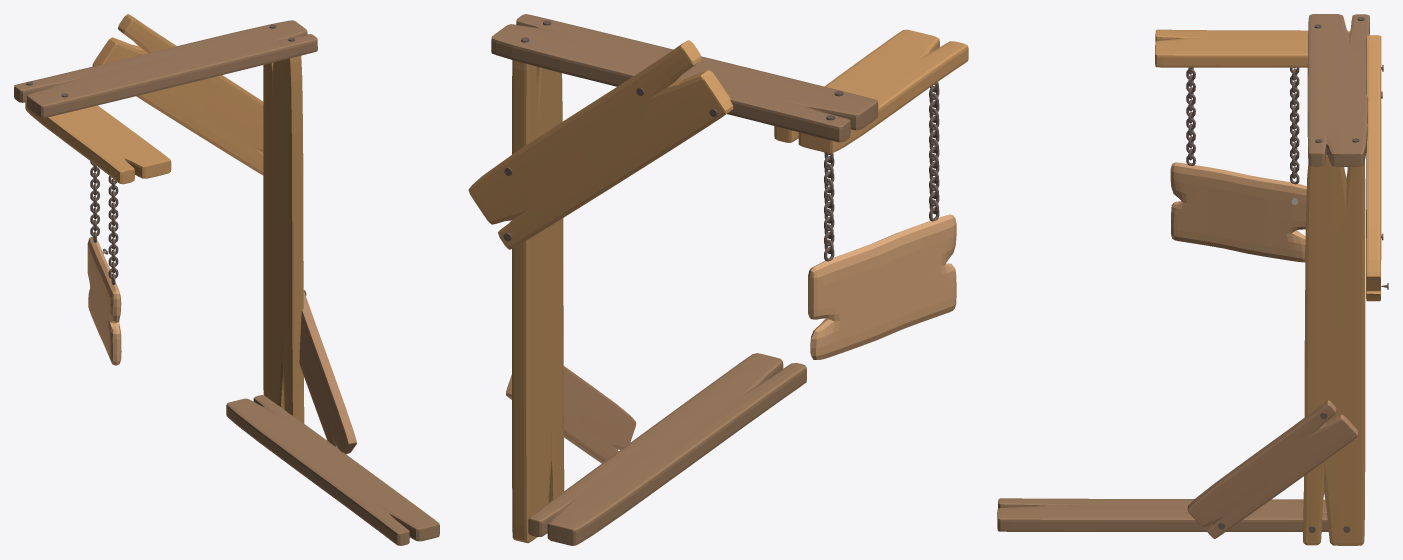
Rendered from woodsign4.fbx.
The picture shows the model from 3 angles, left to right: view 1: azimuth 30°, elevation 25°; view 2: azimuth 150°, elevation 25°; view 3: azimuth 270°, elevation 25°; orthographic projection. The views are drawn at different scales.
Visible parts, largest first — view 1: Cube.001, Cube.002, Cube, Cube.004, Cube.003, Cube.005, woodsign; view 2: Cube.004, Cube.001, Cube, Cube.002, woodsign, Cube.003, Cube.005; view 3: Cube.001, woodsign, Cube.002, Cube, Cube.005, Cube.003, Cube.004.
Boxes of the visible parts, x1=… form: Cube.001: x1=263, y1=56, x2=304, y2=423; Cube.002: x1=14, y1=20, x2=317, y2=118; Cube: x1=226, y1=395, x2=439, y2=545; Cube.004: x1=92, y1=14, x2=263, y2=175; Cube.003: x1=25, y1=102, x2=171, y2=184; Cube.005: x1=299, y1=290, x2=356, y2=454; woodsign: x1=87, y1=236, x2=121, y2=365; Cube.004: x1=468, y1=40, x2=733, y2=249; Cube.001: x1=512, y1=60, x2=564, y2=543; Cube: x1=528, y1=353, x2=806, y2=545; Cube.002: x1=491, y1=14, x2=878, y2=142; woodsign: x1=808, y1=214, x2=956, y2=359; Cube.003: x1=774, y1=29, x2=968, y2=153; Cube.005: x1=506, y1=366, x2=636, y2=463; Cube.001: x1=1303, y1=154, x2=1365, y2=545; woodsign: x1=1170, y1=162, x2=1306, y2=262; Cube.002: x1=1307, y1=14, x2=1369, y2=166; Cube: x1=997, y1=498, x2=1328, y2=531; Cube.005: x1=1187, y1=400, x2=1358, y2=538; Cube.003: x1=1155, y1=29, x2=1349, y2=67; Cube.004: x1=1366, y1=35, x2=1381, y2=301.
Bounding box in the file's own units: 245 × 214 × 304.
1 material, 1 textured.
